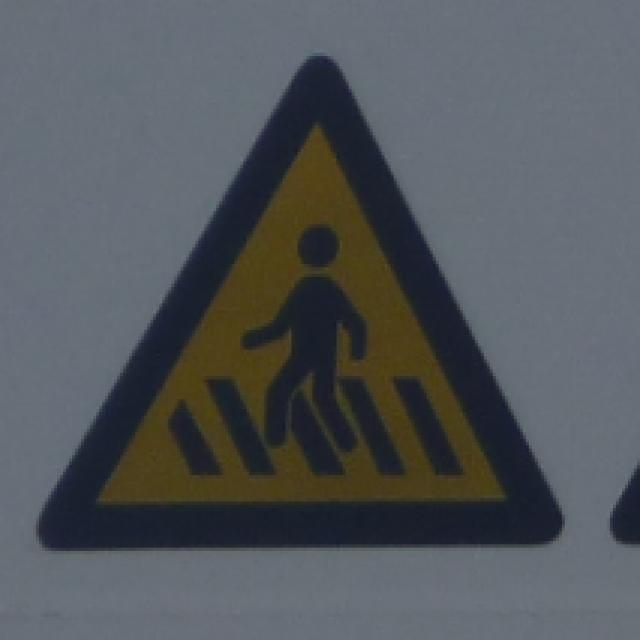Crossing: (33, 46, 567, 571)
